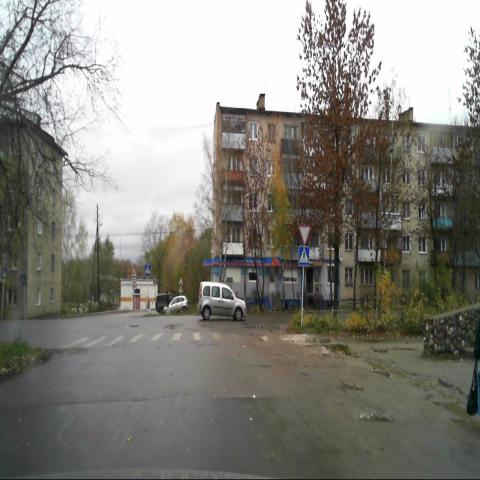2_4: (298, 224, 311, 246)
